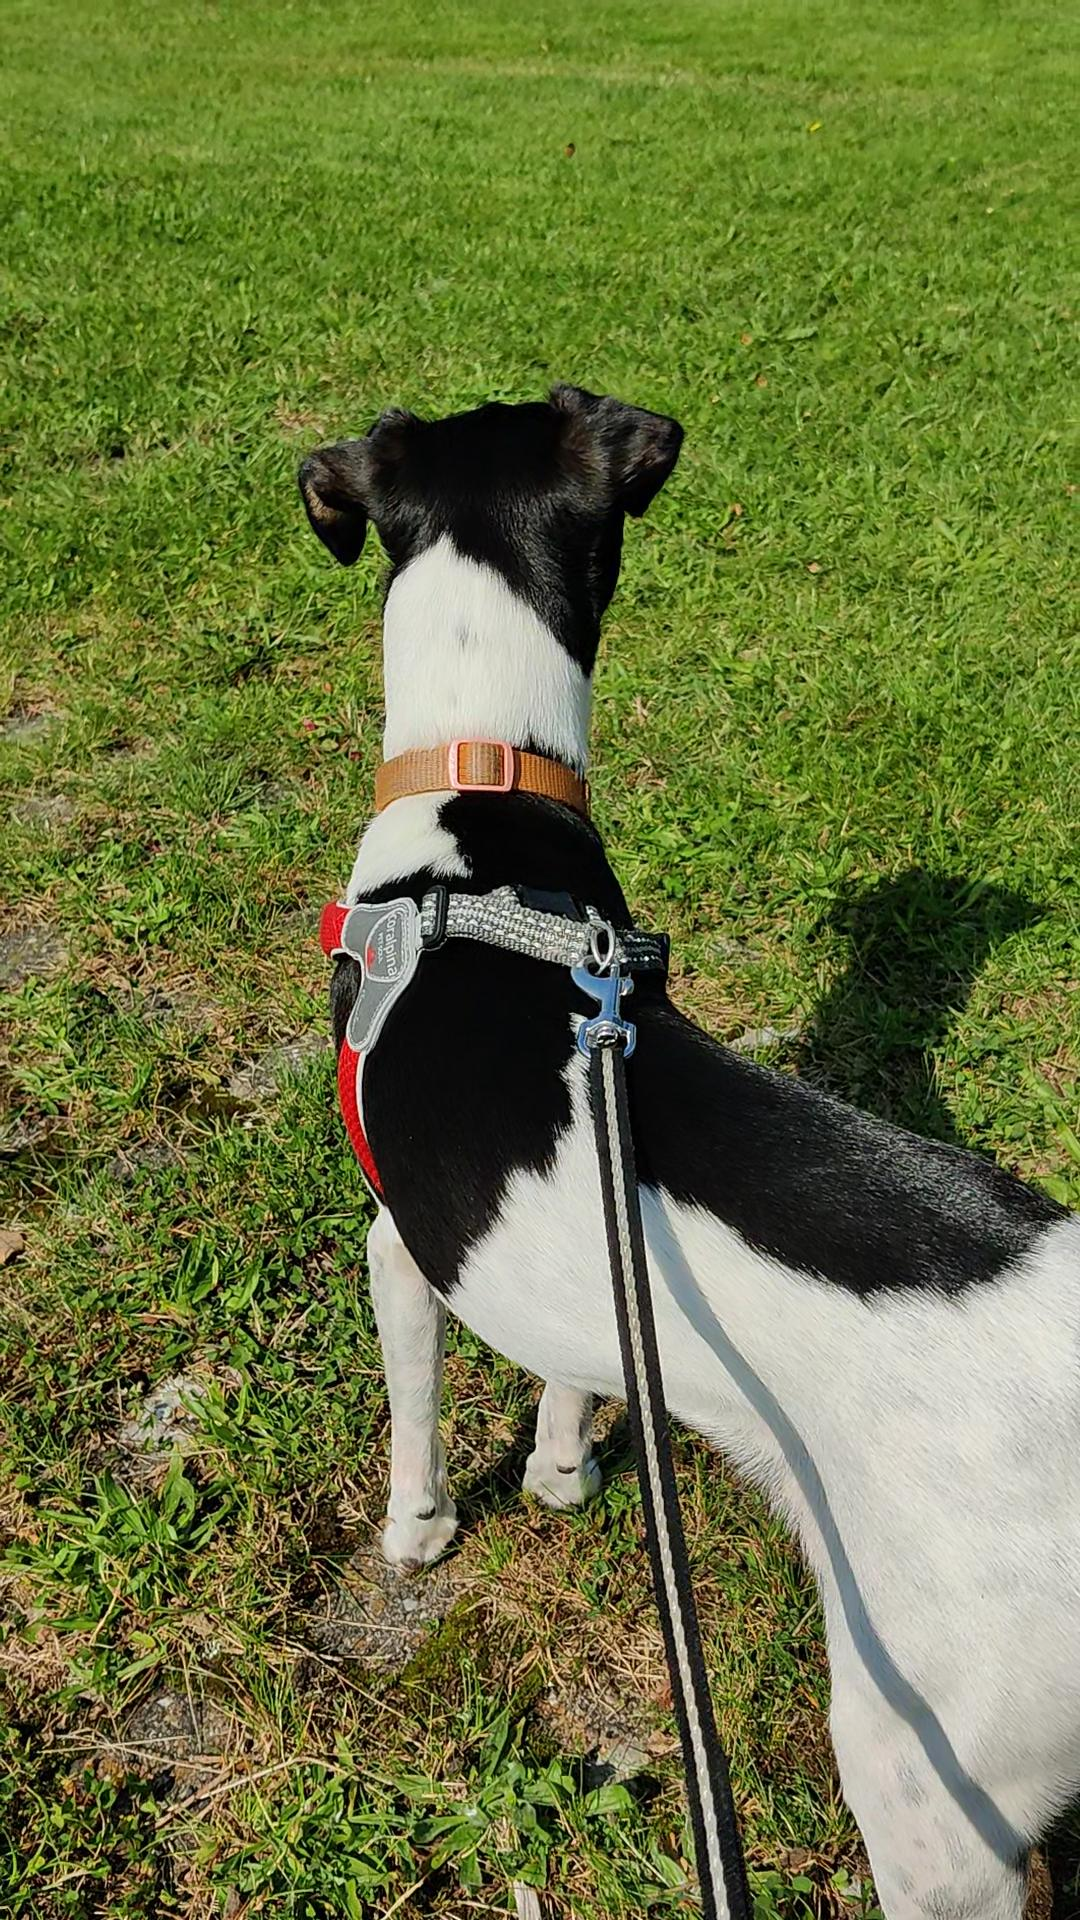Dog: (285, 380, 1079, 1920)
